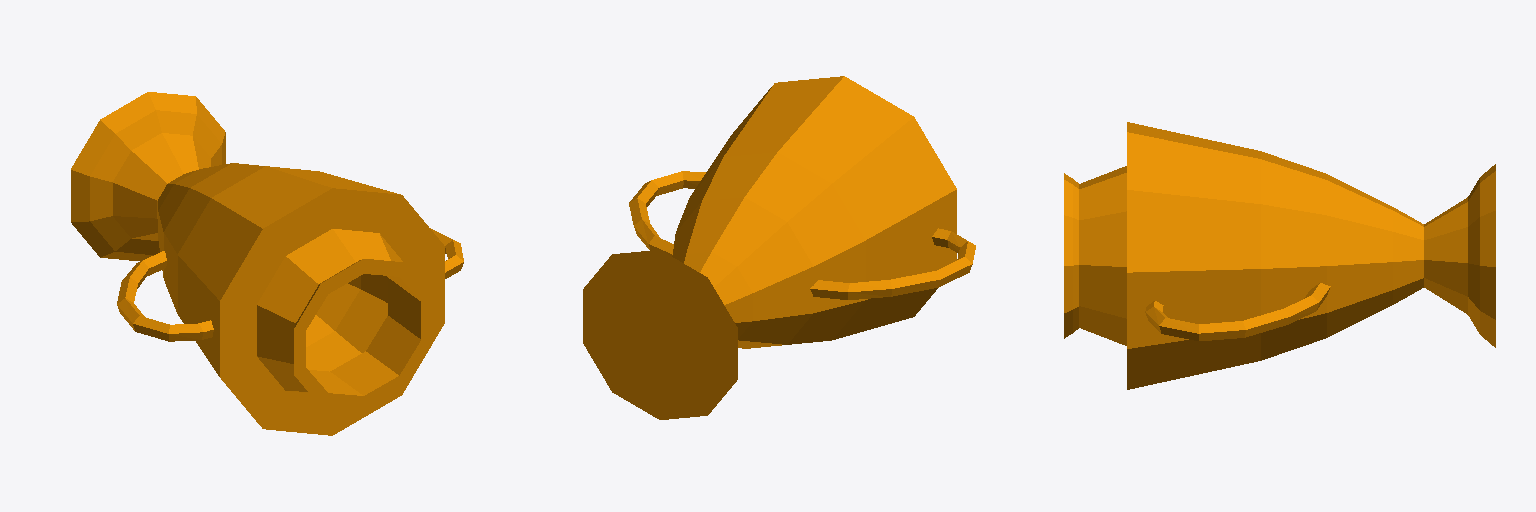
3 views of the same model, side by side, from view 1: azimuth 30°, elevation 25°; view 2: azimuth 150°, elevation 25°; view 3: azimuth 270°, elevation 25° (orthographic).
Size of the model in its own units: 130 by 93.9 by 148.
1 materials, 1 textured.